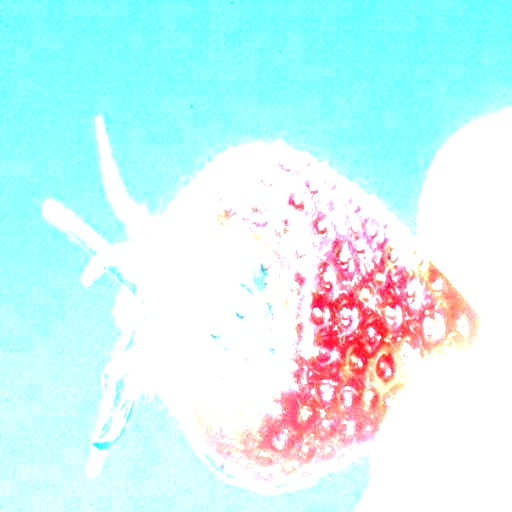Anthracnose Fruit Rot: (153, 191, 313, 439)
